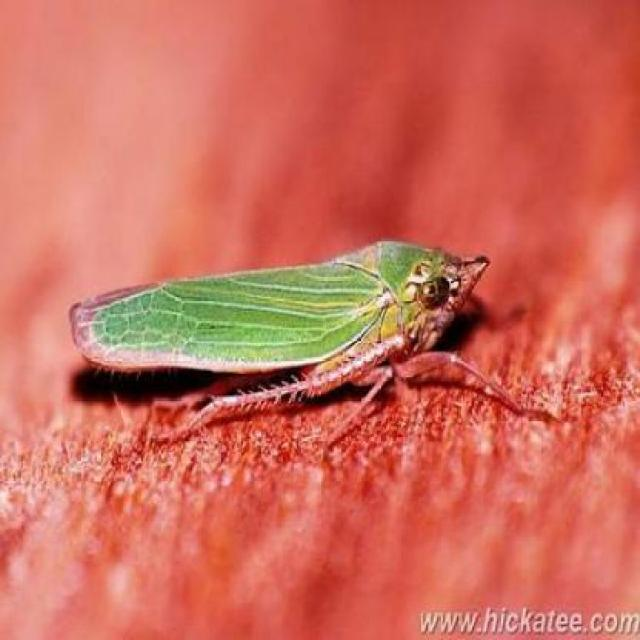green-leafhopper: (69, 238, 486, 404)
